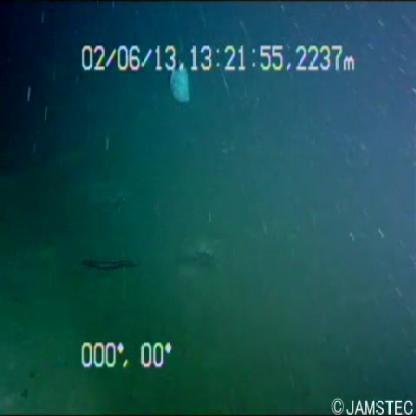Rác: (160, 60, 203, 110)
